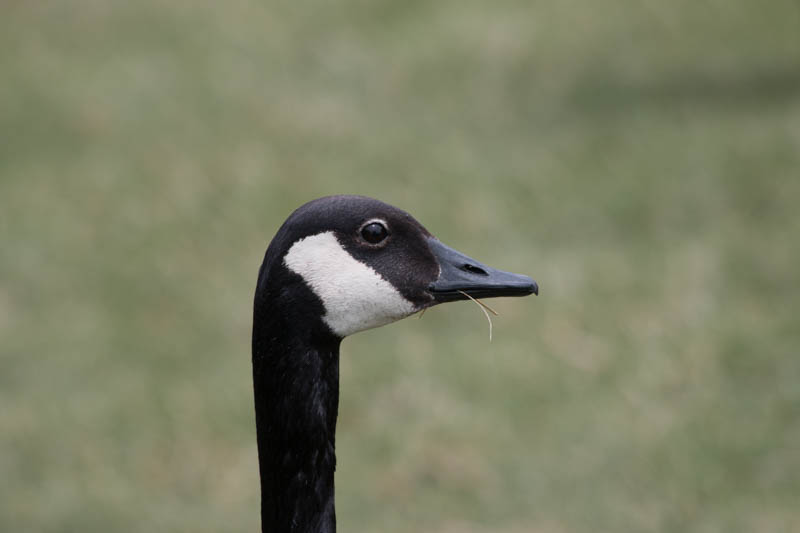goose-head: (251, 193, 540, 340)
